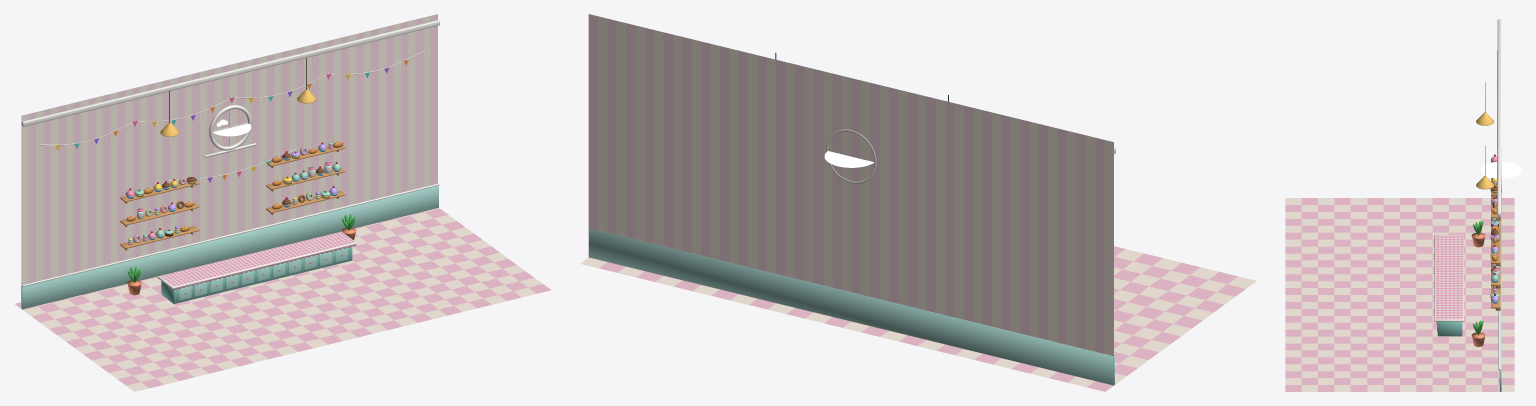
Rendered from bakery.glb.
The picture shows the model from 3 angles, left to right: view 1: azimuth 30°, elevation 25°; view 2: azimuth 150°, elevation 25°; view 3: azimuth 270°, elevation 25°; orthographic projection. The views are drawn at different scales.
Parts seen in each view (by area): view 1: bakery_mesh, counter_mesh, counter_cloth; view 2: bakery_mesh; view 3: bakery_mesh, counter_cloth, counter_mesh.
Boxes of the visible parts, bbox=[...] form: bakery_mesh: bbox=[15, 14, 550, 391]; counter_mesh: bbox=[157, 231, 356, 303]; counter_cloth: bbox=[159, 232, 354, 286]; bakery_mesh: bbox=[580, 14, 1256, 391]; bakery_mesh: bbox=[1285, 19, 1521, 391]; counter_cloth: bbox=[1435, 235, 1462, 319]; counter_mesh: bbox=[1434, 234, 1463, 336].
Bounding box in the file's own units: 28 × 12.4 × 14.43.
Materials: 51 (1 with a texture image).
